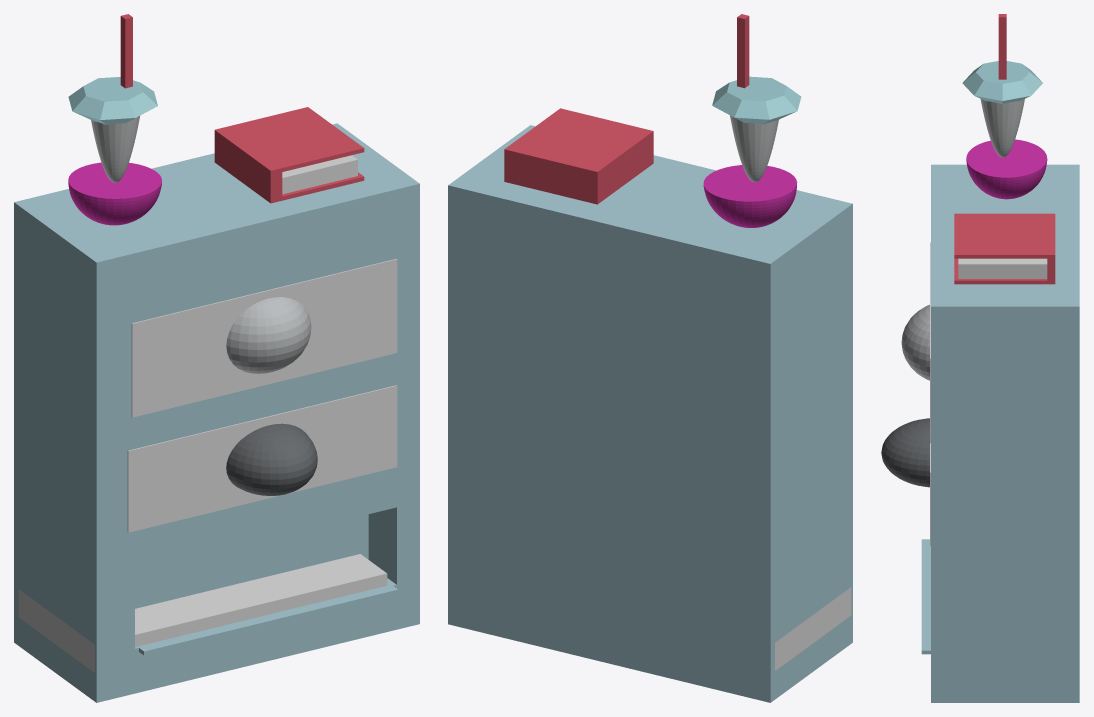
The model's file is Project 149.glb.
The picture shows the model from 3 angles, left to right: view 1: azimuth 30°, elevation 25°; view 2: azimuth 150°, elevation 25°; view 3: azimuth 270°, elevation 25°; orthographic projection. The views are drawn at different scales.
Parts seen in each view (by area): view 1: Mesh_Mesh_head_geo.001_lambert2SG.001; view 2: Mesh_Mesh_head_geo.001_lambert2SG.001; view 3: Mesh_Mesh_head_geo.001_lambert2SG.001.
Boxes of the visible parts, bbox=[...] form: Mesh_Mesh_head_geo.001_lambert2SG.001: bbox=[14, 14, 419, 702]; Mesh_Mesh_head_geo.001_lambert2SG.001: bbox=[448, 14, 852, 702]; Mesh_Mesh_head_geo.001_lambert2SG.001: bbox=[881, 14, 1079, 702].
Size of the model in its own units: 83 by 157 by 49.
